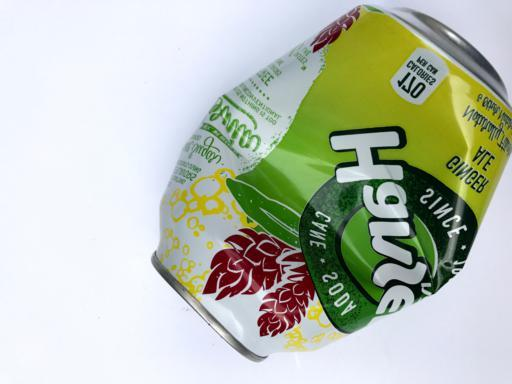metal: (150, 6, 511, 365)
